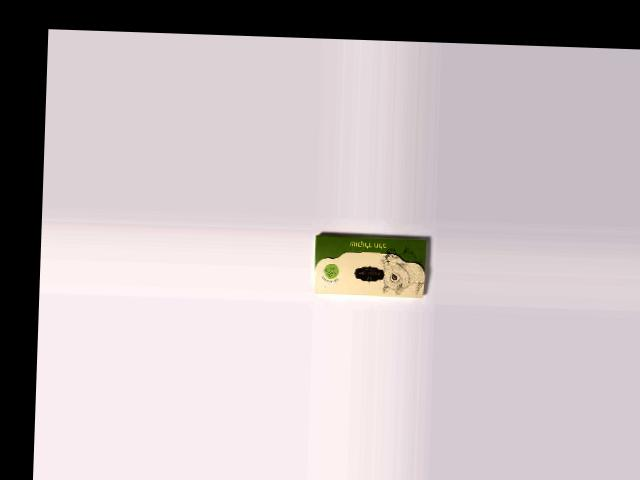chocolate: (312, 233, 428, 299)
